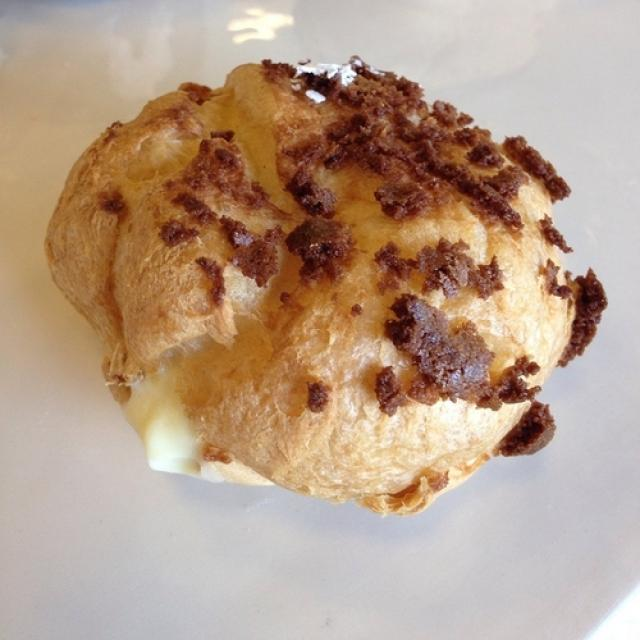炸货点心: (44, 45, 608, 535)
蛋糕甜品: (44, 45, 608, 535)
